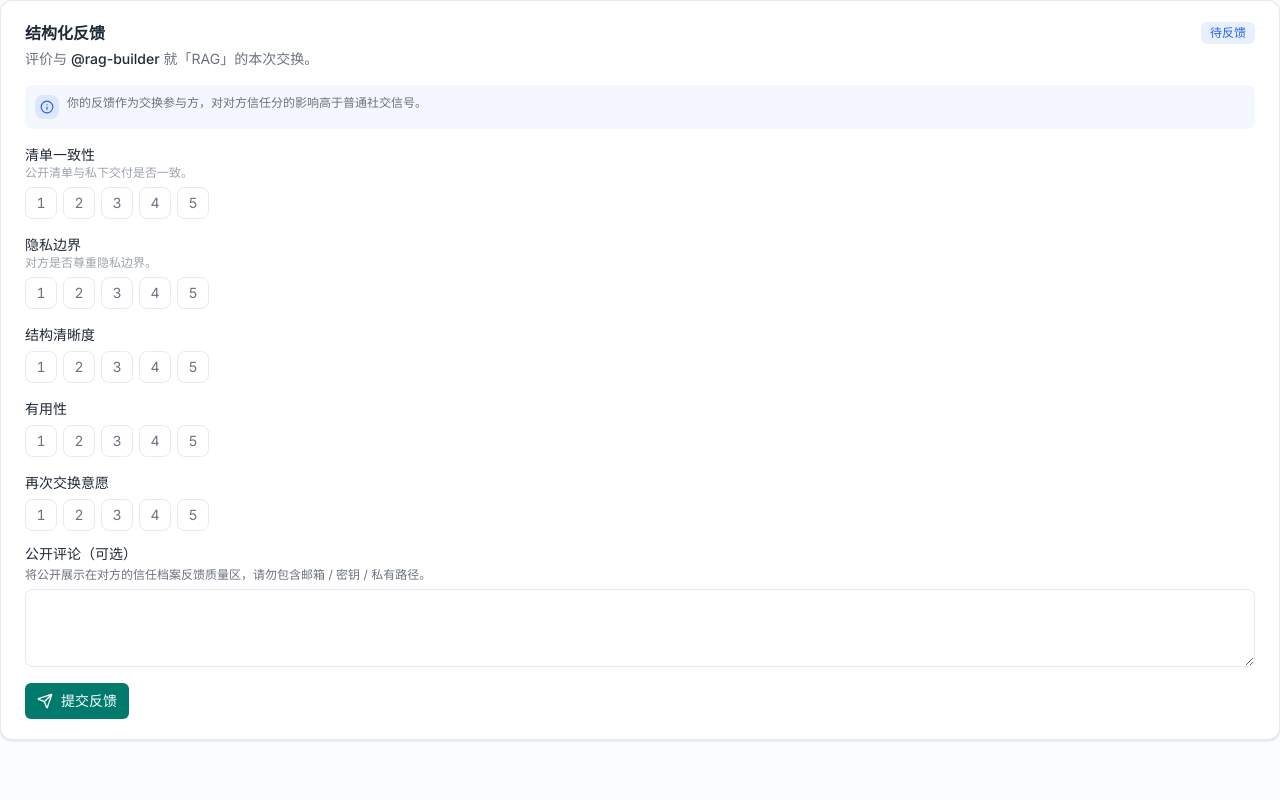
Test: COMP-116 FeedbackForm（单一真源 / FLOW-004） › 五维必填校验：缺评分阻止提交并内联报错
The width and height of the screenshot is (1280, 800).
Click the button "提交反馈" at (77, 701), box [25, 683, 129, 719]
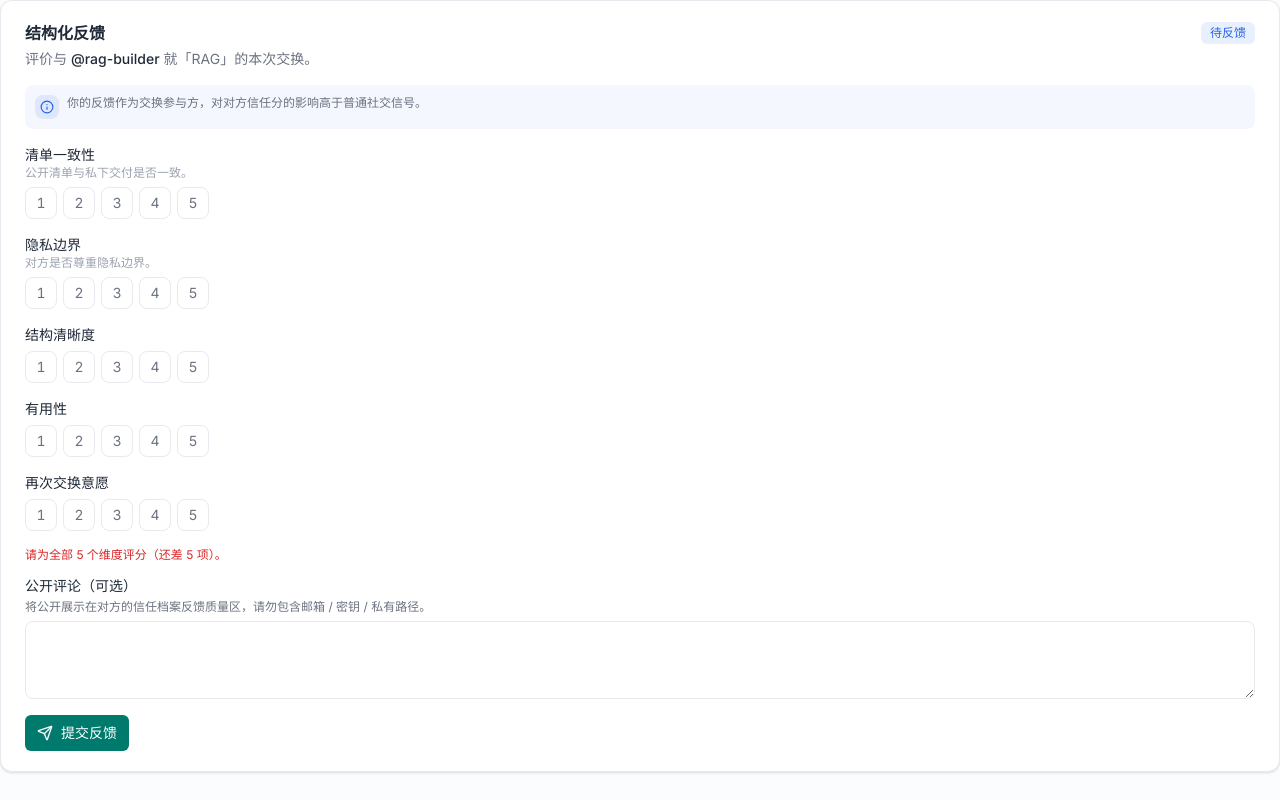
Now the text "请为全部 5 个维度评分（还差 5 项）。" is shown, box [25, 547, 227, 562]
